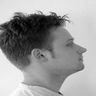ear: (29, 45, 53, 67)
